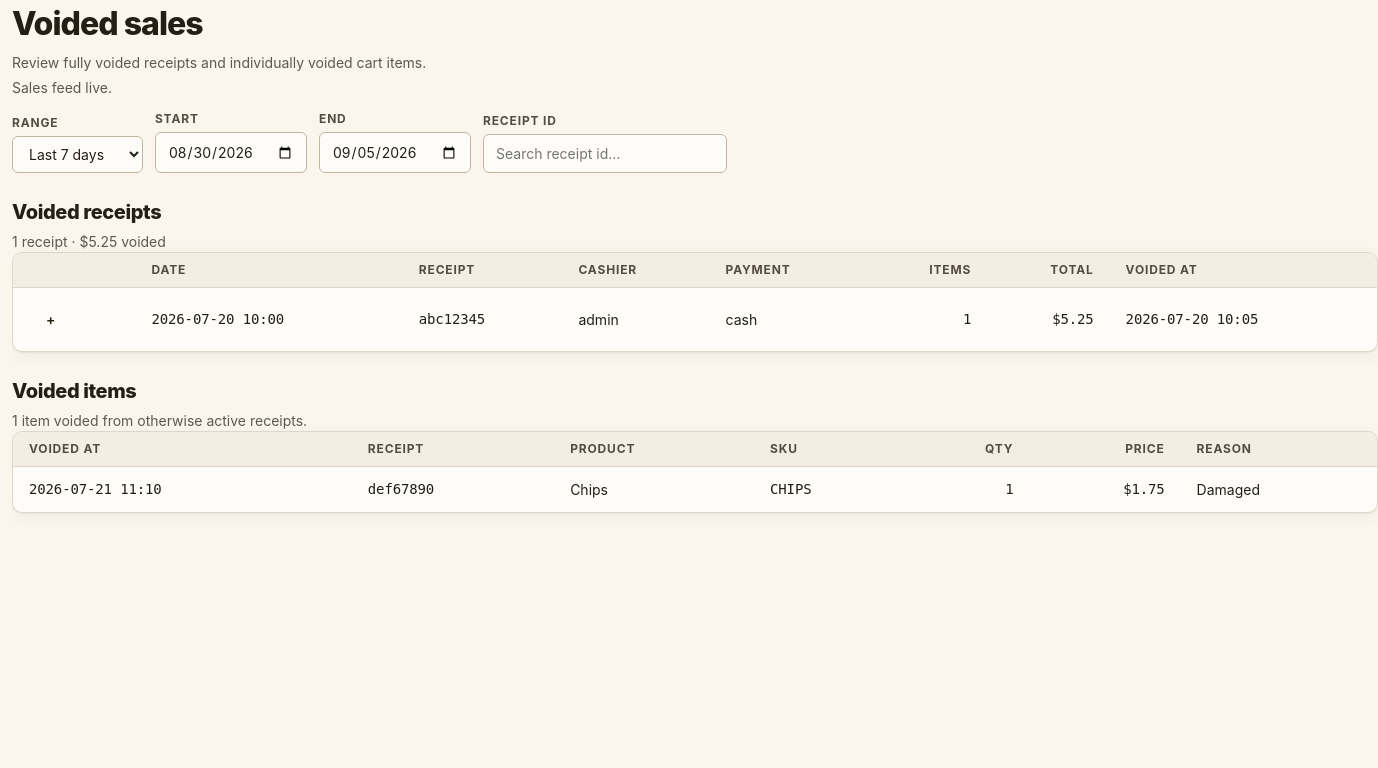
Test: VoidedPanel › renders a voided receipt row collapsed, expanding reveals its line items
The width and height of the screenshot is (1378, 768).
expect the text "abc12345" is shown: met, box x1=403 y1=288 x2=562 y2=351
expect the text "Coca-Cola 330ml" is not shown: met
Step 1. Click the button named "Expand line items" → coordinates (51, 320), box x1=29 y1=300 x2=72 y2=339
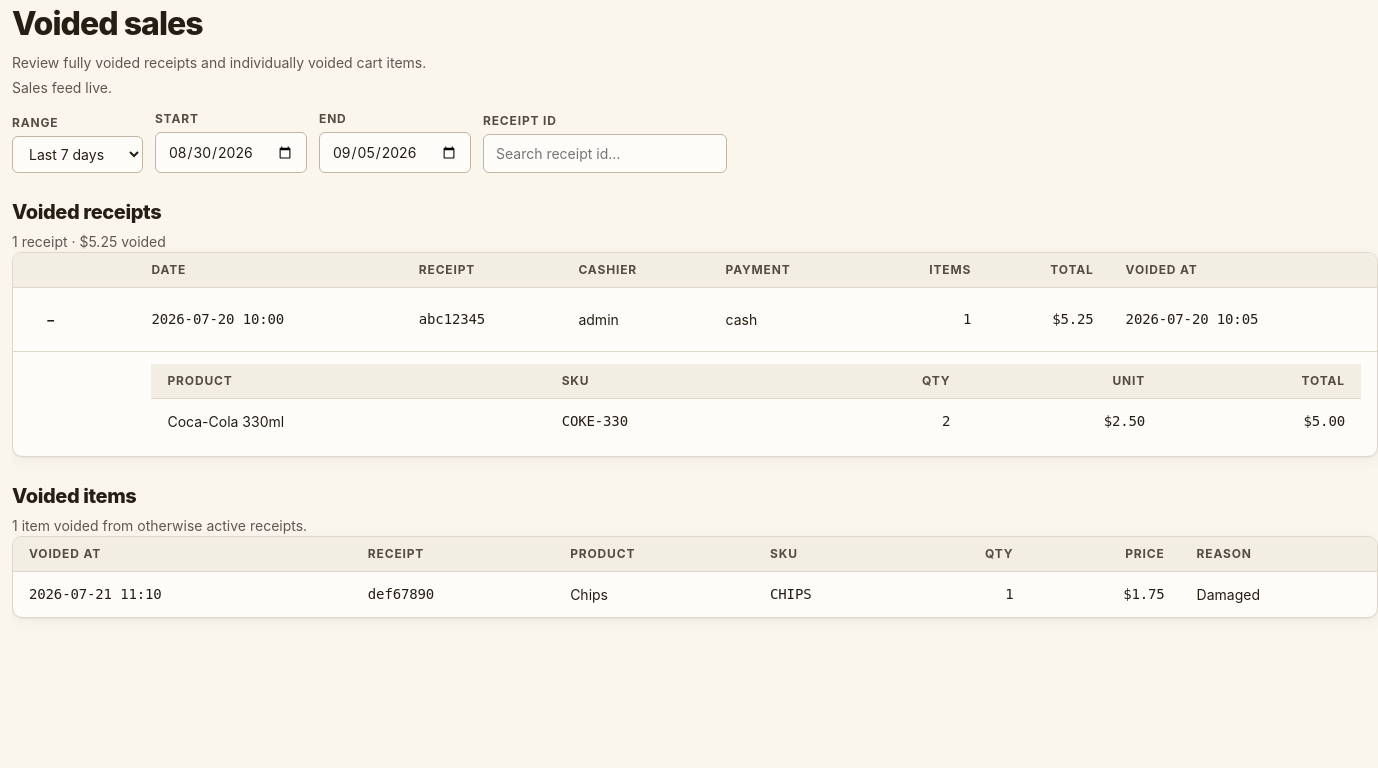
expect the text "Coca-Cola 330ml" is shown: met, box x1=152 y1=398 x2=546 y2=444
expect the text "COKE-330" is shown: met, box x1=546 y1=398 x2=806 y2=444
